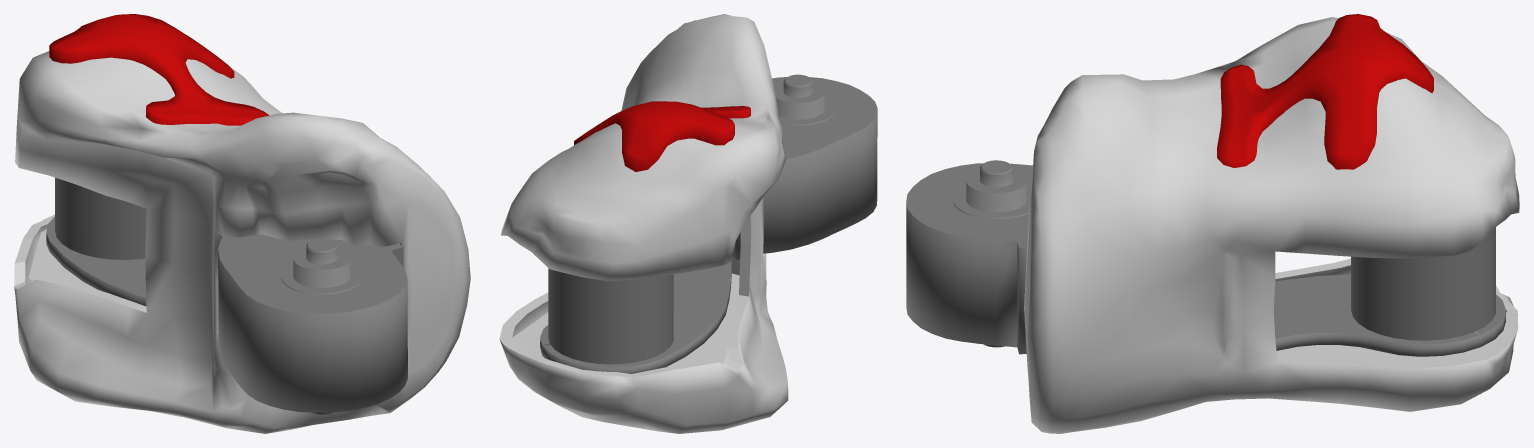
File: LKneePitch.dae
The picture shows the model from 3 angles, left to right: view 1: azimuth 30°, elevation 25°; view 2: azimuth 150°, elevation 25°; view 3: azimuth 270°, elevation 25°; orthographic projection. The views are drawn at different scales.
Parts seen in each view (by area): view 1: root_010; view 2: root_010; view 3: root_010.
Boxes of the visible parts, <box> form: root_010: <box>14,14,470,433</box>; root_010: <box>499,14,877,433</box>; root_010: <box>906,14,1519,433</box>.
Size of the model in its own units: 89.68 by 148 by 93.29.
